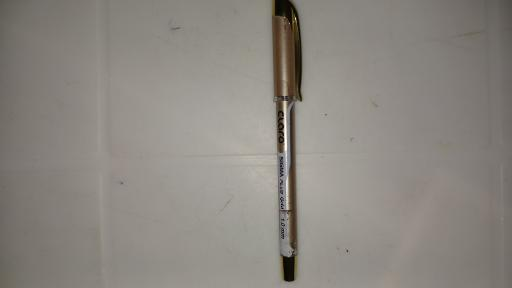pen: (271, 1, 304, 281)
